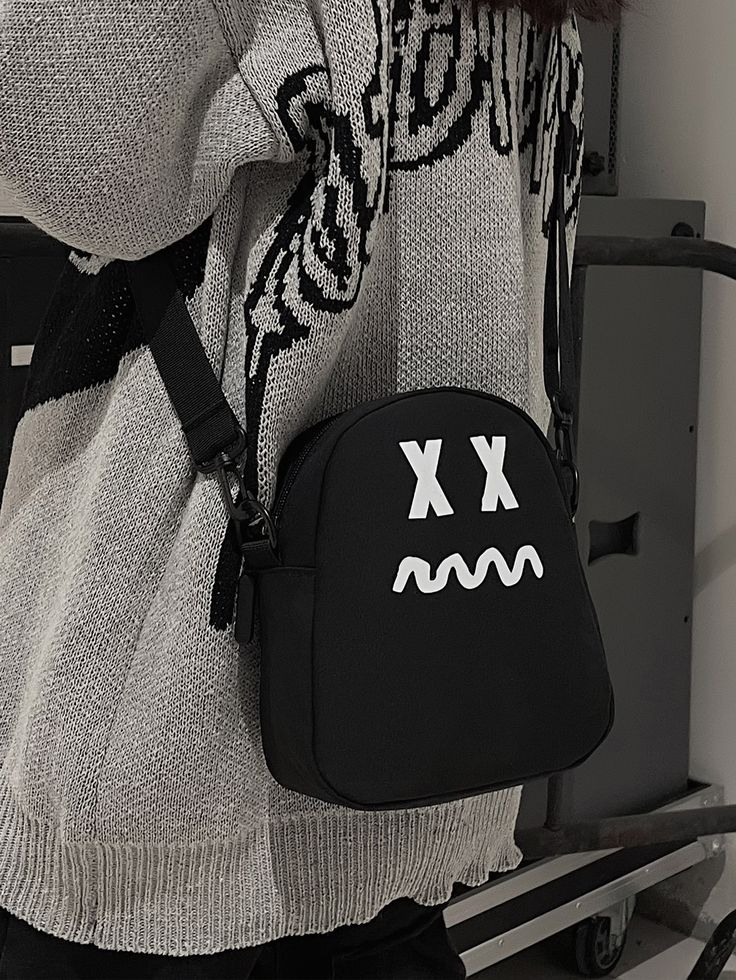nylon: (257, 382, 617, 812)
